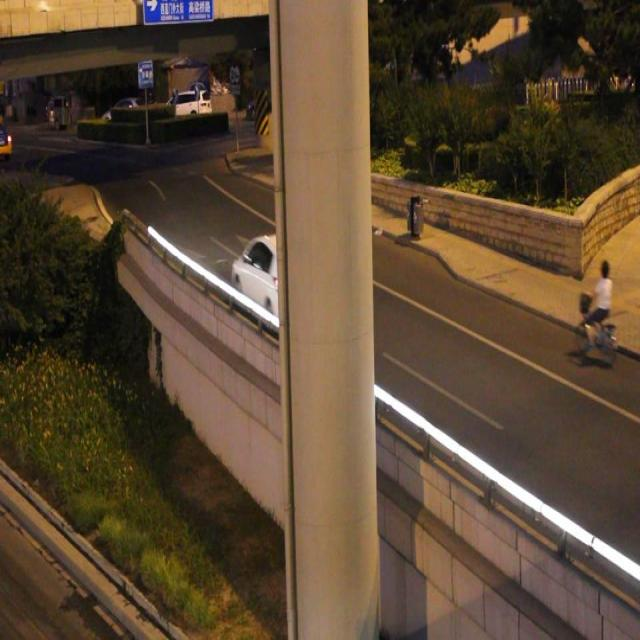car: (231, 231, 319, 324)
